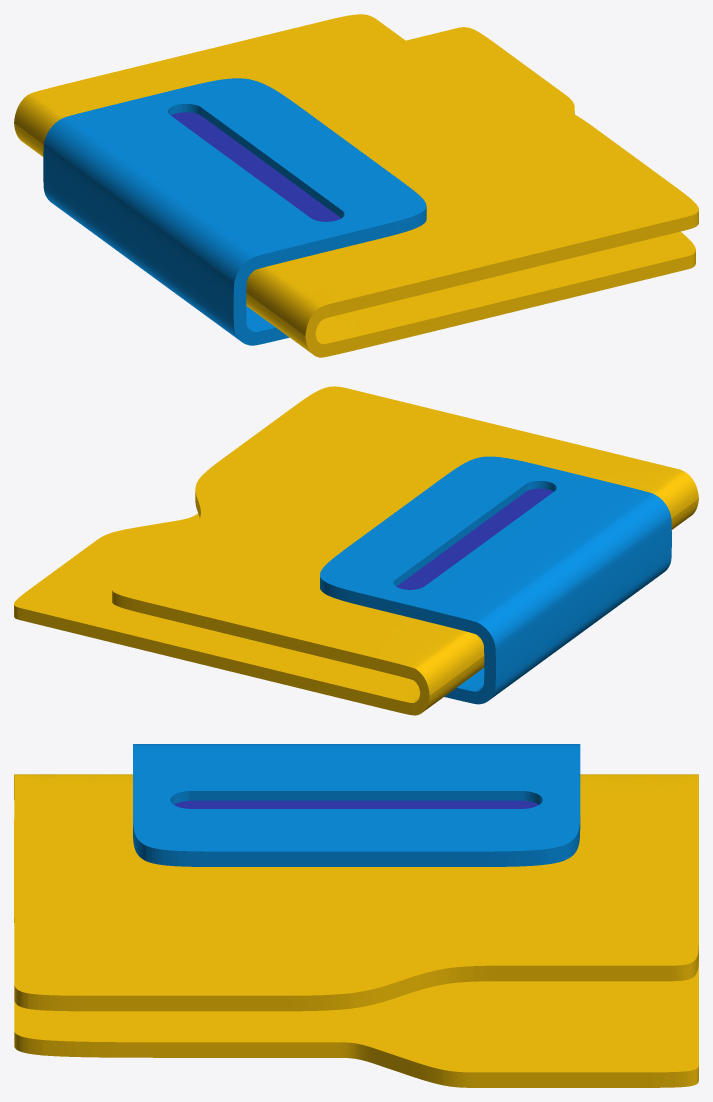
File: exp1.fbx
The picture shows the model from 3 angles, top to bottom: view 1: azimuth 30°, elevation 25°; view 2: azimuth 150°, elevation 25°; view 3: azimuth 270°, elevation 25°; orthographic projection. The views are drawn at different scales.
Visible parts, largest first — view 1: Cube, Cube.001; view 2: Cube, Cube.001; view 3: Cube, Cube.001.
Boxes of the visible parts, <box> form: Cube: <box>14,14,698,357</box>; Cube.001: <box>43,78,426,345</box>; Cube: <box>14,386,698,715</box>; Cube.001: <box>320,456,671,704</box>; Cube: <box>14,774,698,1087</box>; Cube.001: <box>133,744,580,866</box>.
Bounding box in the file's own units: 189 × 34.16 × 200.
